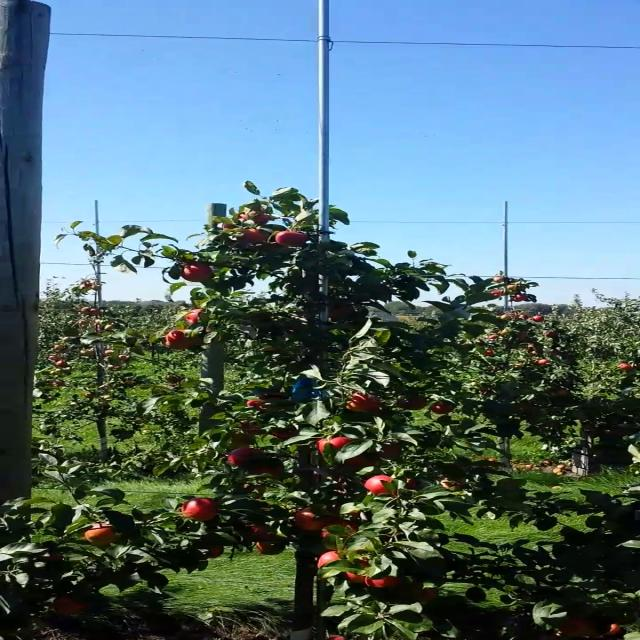apple: (226, 446, 266, 466), (180, 498, 216, 520), (294, 506, 326, 530), (344, 392, 380, 412), (51, 598, 87, 618), (243, 394, 281, 412), (82, 525, 116, 545), (243, 461, 284, 476), (274, 230, 308, 248), (166, 329, 196, 349), (182, 265, 214, 283), (253, 539, 289, 555), (316, 548, 342, 570), (237, 209, 272, 225), (364, 476, 392, 496), (315, 436, 353, 450), (562, 618, 591, 636), (364, 576, 407, 588), (248, 525, 282, 540), (322, 522, 356, 536), (396, 397, 428, 409), (375, 445, 402, 459), (347, 454, 374, 468), (182, 308, 205, 324), (241, 421, 267, 435), (270, 427, 300, 439), (414, 586, 436, 602), (244, 227, 264, 244), (344, 570, 364, 586), (439, 478, 463, 489), (428, 403, 454, 413), (401, 474, 421, 486), (608, 622, 621, 634), (222, 222, 238, 231), (512, 294, 526, 303), (618, 362, 632, 370), (49, 379, 63, 386), (532, 315, 545, 322), (488, 290, 503, 296), (90, 308, 101, 316), (544, 332, 556, 338), (492, 277, 504, 283), (94, 319, 106, 325), (516, 334, 527, 340), (53, 344, 64, 350), (103, 349, 114, 355), (536, 359, 549, 364), (483, 351, 495, 356), (507, 284, 517, 290), (55, 361, 67, 366), (487, 334, 498, 339), (49, 370, 60, 375), (82, 307, 90, 313), (119, 355, 128, 360), (517, 315, 528, 319), (49, 356, 60, 360), (78, 320, 86, 325), (85, 393, 94, 397), (104, 325, 112, 329), (124, 381, 132, 384)
